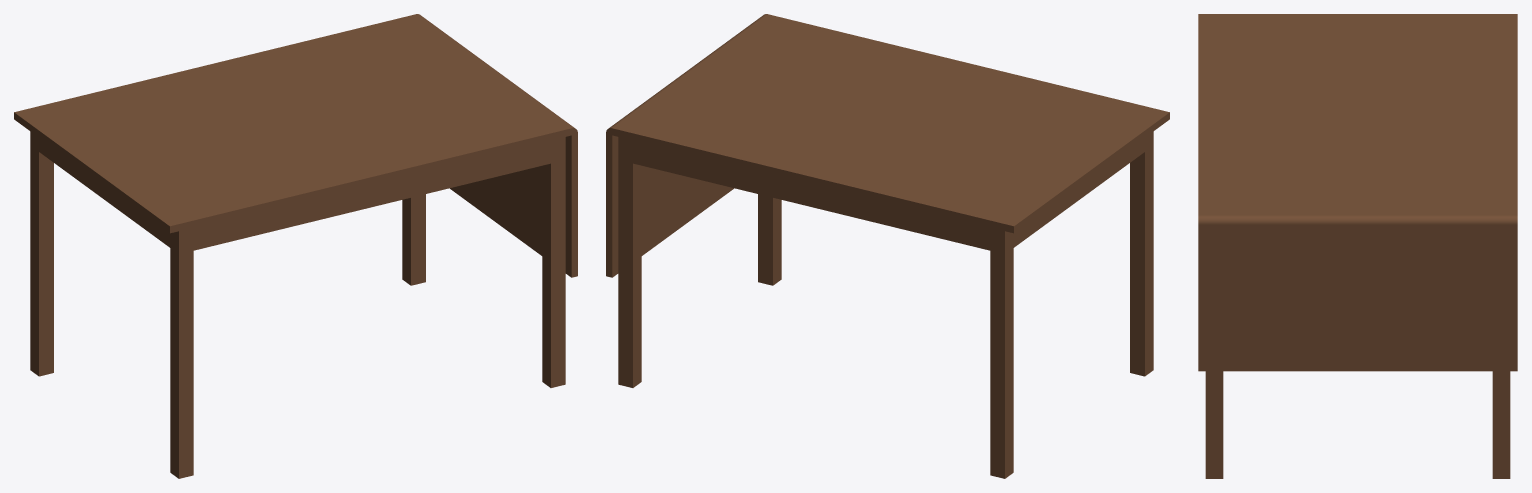
Rendered from hinge_expanding_table.glb.
3 views of the same model, side by side, from view 1: azimuth 30°, elevation 25°; view 2: azimuth 150°, elevation 25°; view 3: azimuth 270°, elevation 25° (orthographic). The views are drawn at different scales.
Parts seen in each view (by area): view 1: hinge_expanding_table; view 2: hinge_expanding_table; view 3: hinge_expanding_table.
Part boxes in pixels (<box>): hinge_expanding_table: <box>14,14,577,478</box>; hinge_expanding_table: <box>606,14,1169,478</box>; hinge_expanding_table: <box>1198,14,1517,478</box>.
Bounding box in the file's own units: 48 × 29.05 × 31.75.
